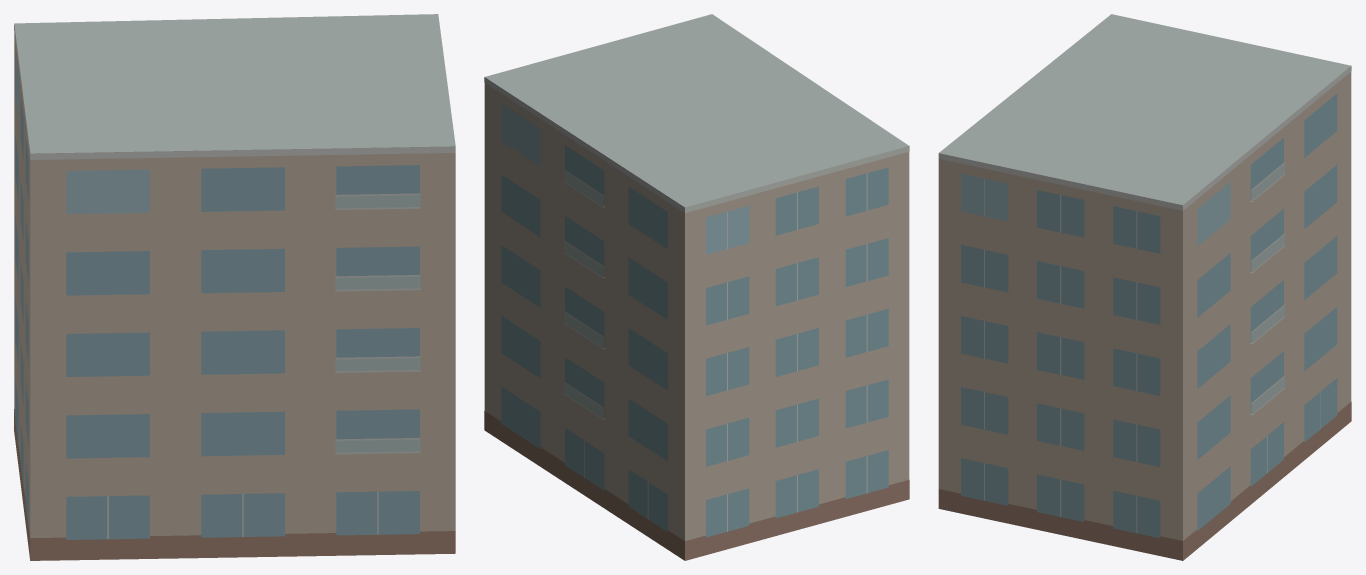
The model's file is survey-upis-32933216.glb.
The picture shows the model from 3 angles, left to right: view 1: azimuth 30°, elevation 25°; view 2: azimuth 150°, elevation 25°; view 3: azimuth 270°, elevation 25°; orthographic projection. The views are drawn at different scales.
Visible parts, largest first — view 1: survey-upis-32933216.tmp; view 2: survey-upis-32933216.tmp; view 3: survey-upis-32933216.tmp.
Part boxes in pixels (x1,y1,x2,y2): survey-upis-32933216.tmp: (14,14,455,560); survey-upis-32933216.tmp: (484,14,909,560); survey-upis-32933216.tmp: (938,14,1351,560).
Bounding box in the file's own units: 17.6 × 15.25 × 16.05.
